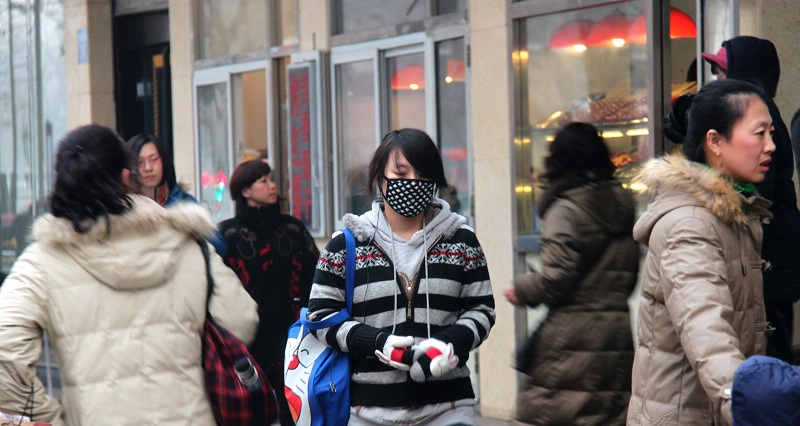face: (733, 102, 780, 181), (136, 145, 164, 189), (248, 172, 281, 205)
face_mask: (387, 153, 436, 215)
